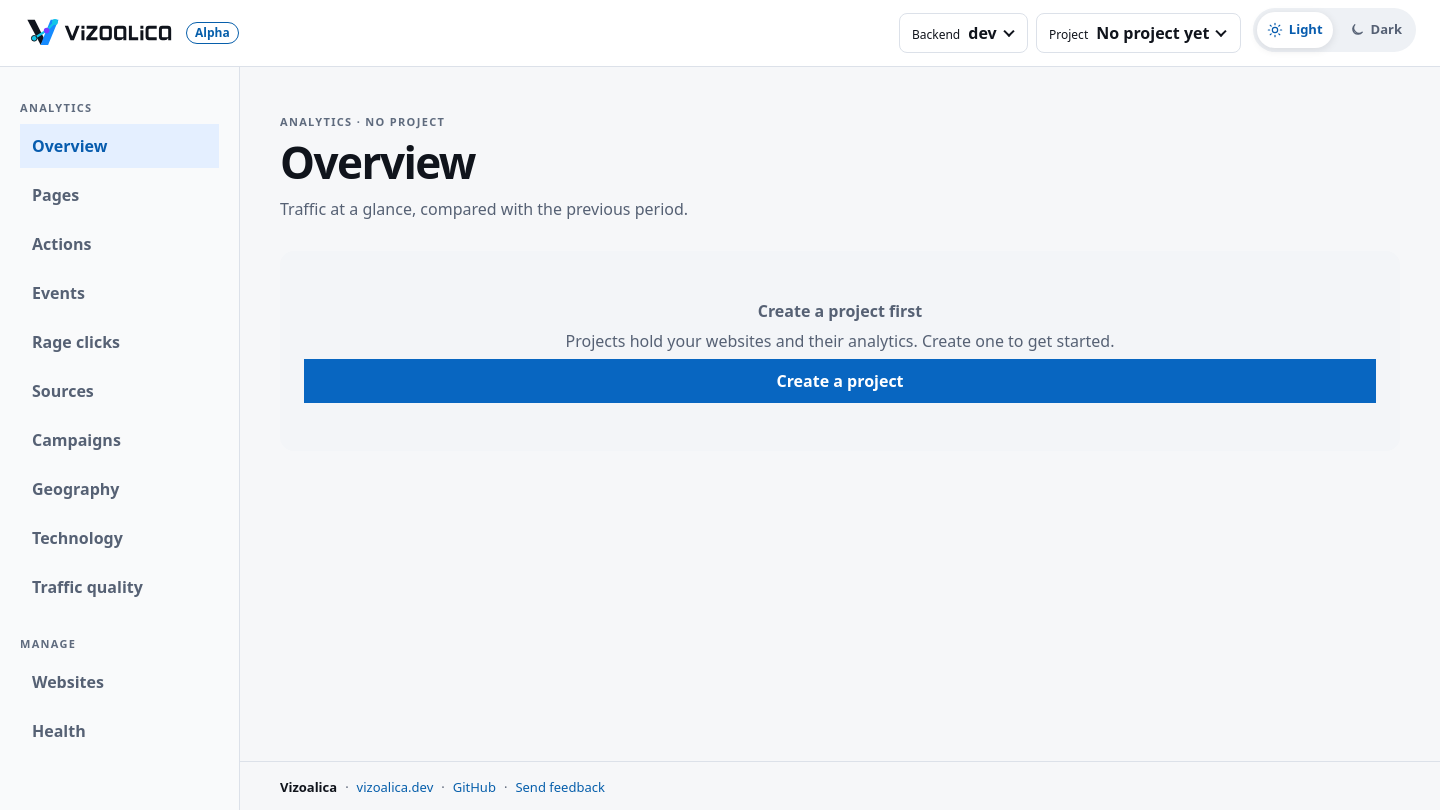
App with environments › reloads everything after another environment is selected
Click the button "Backend dev" at (964, 33), box 899,13 -> 1028,53
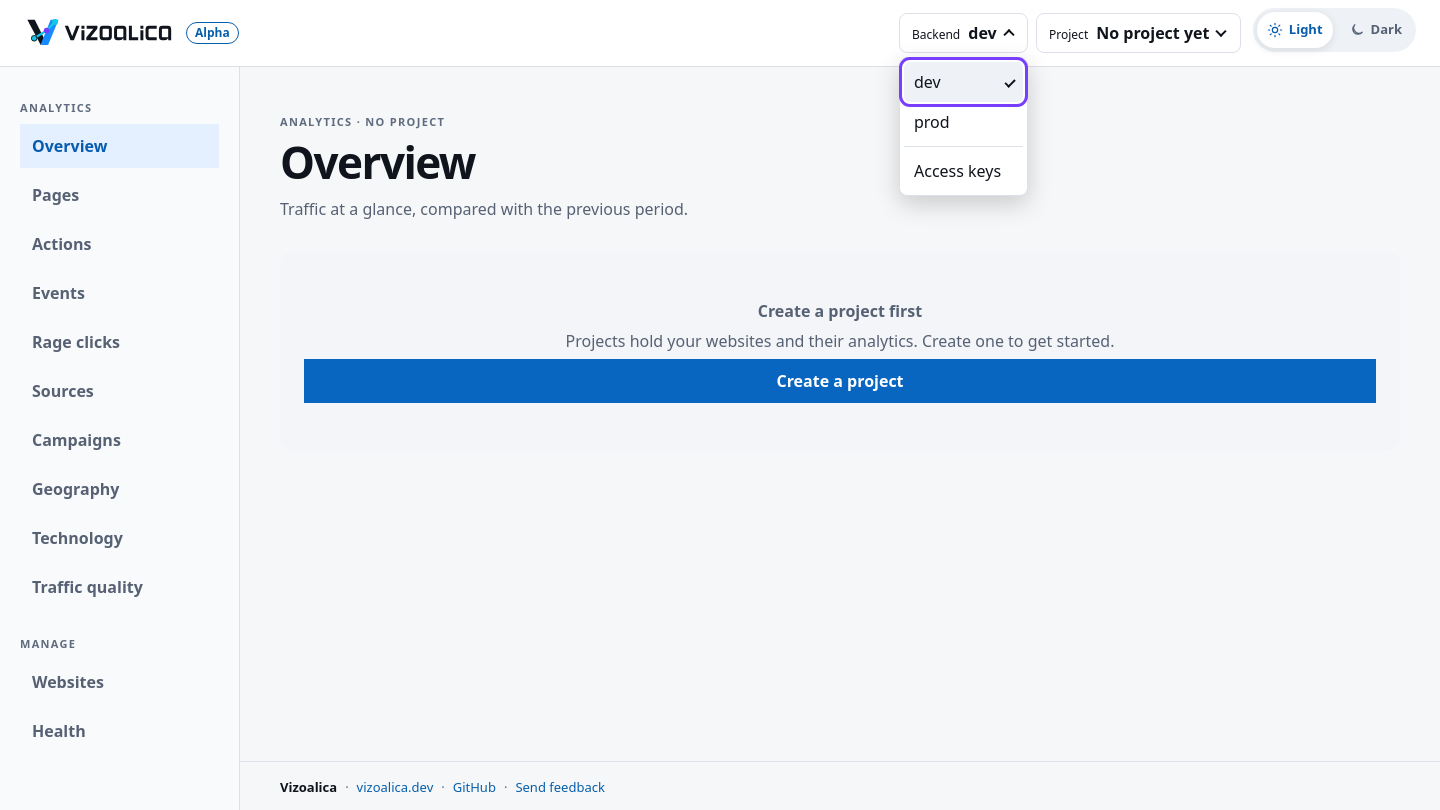
Click the menu item "prod" at (964, 122), box 904,102 -> 1023,142
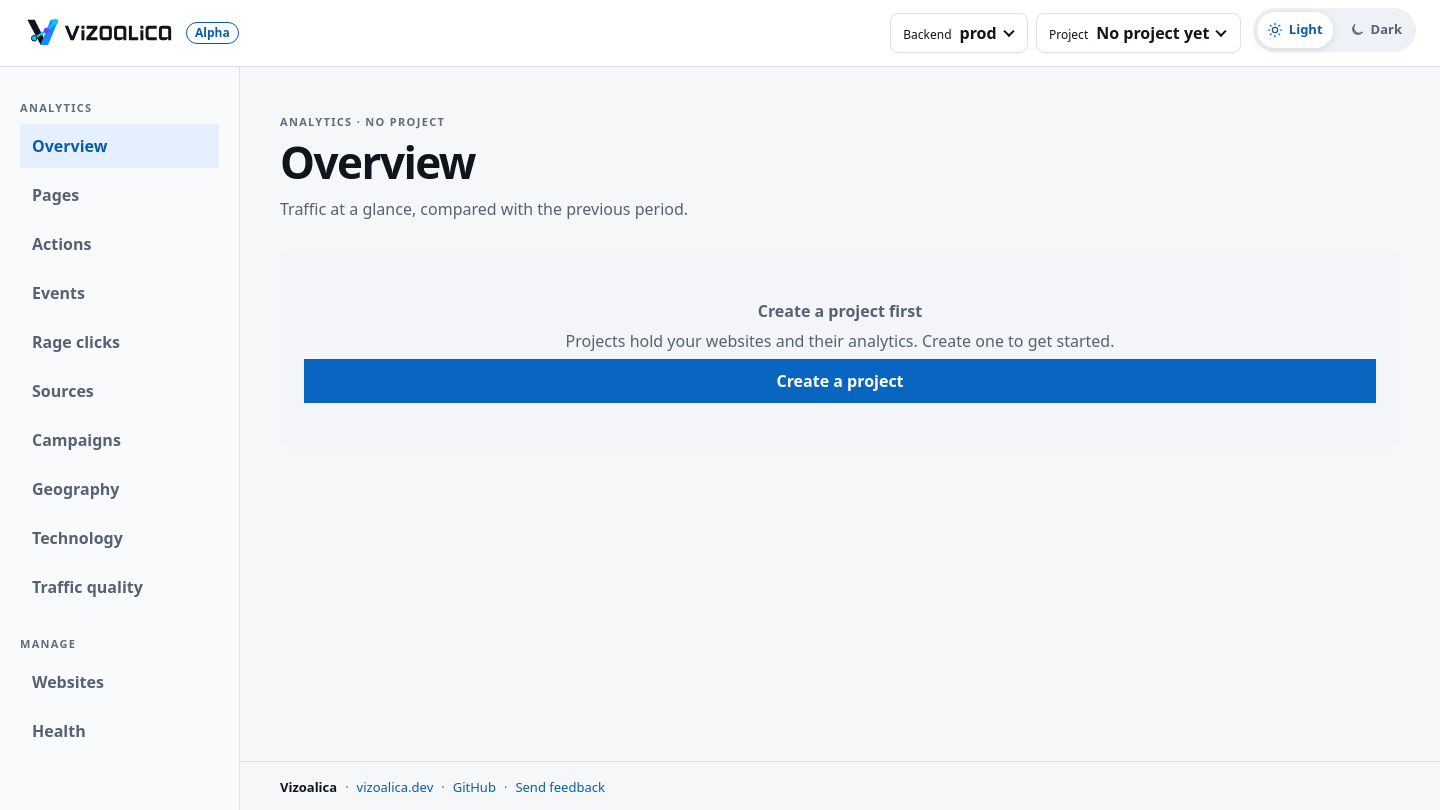
Check: the button "Backend prod" is shown, box 890,13 -> 1028,53
